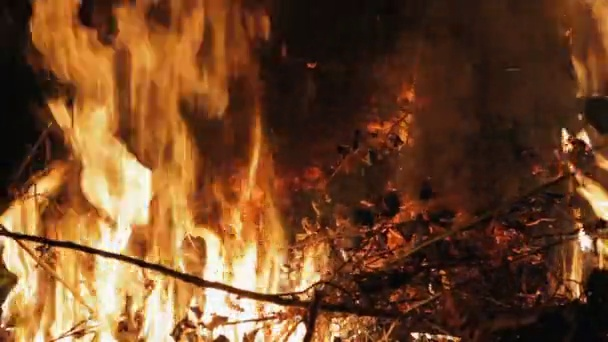fire: (19, 1, 272, 342), (569, 133, 608, 270), (286, 246, 318, 342)
